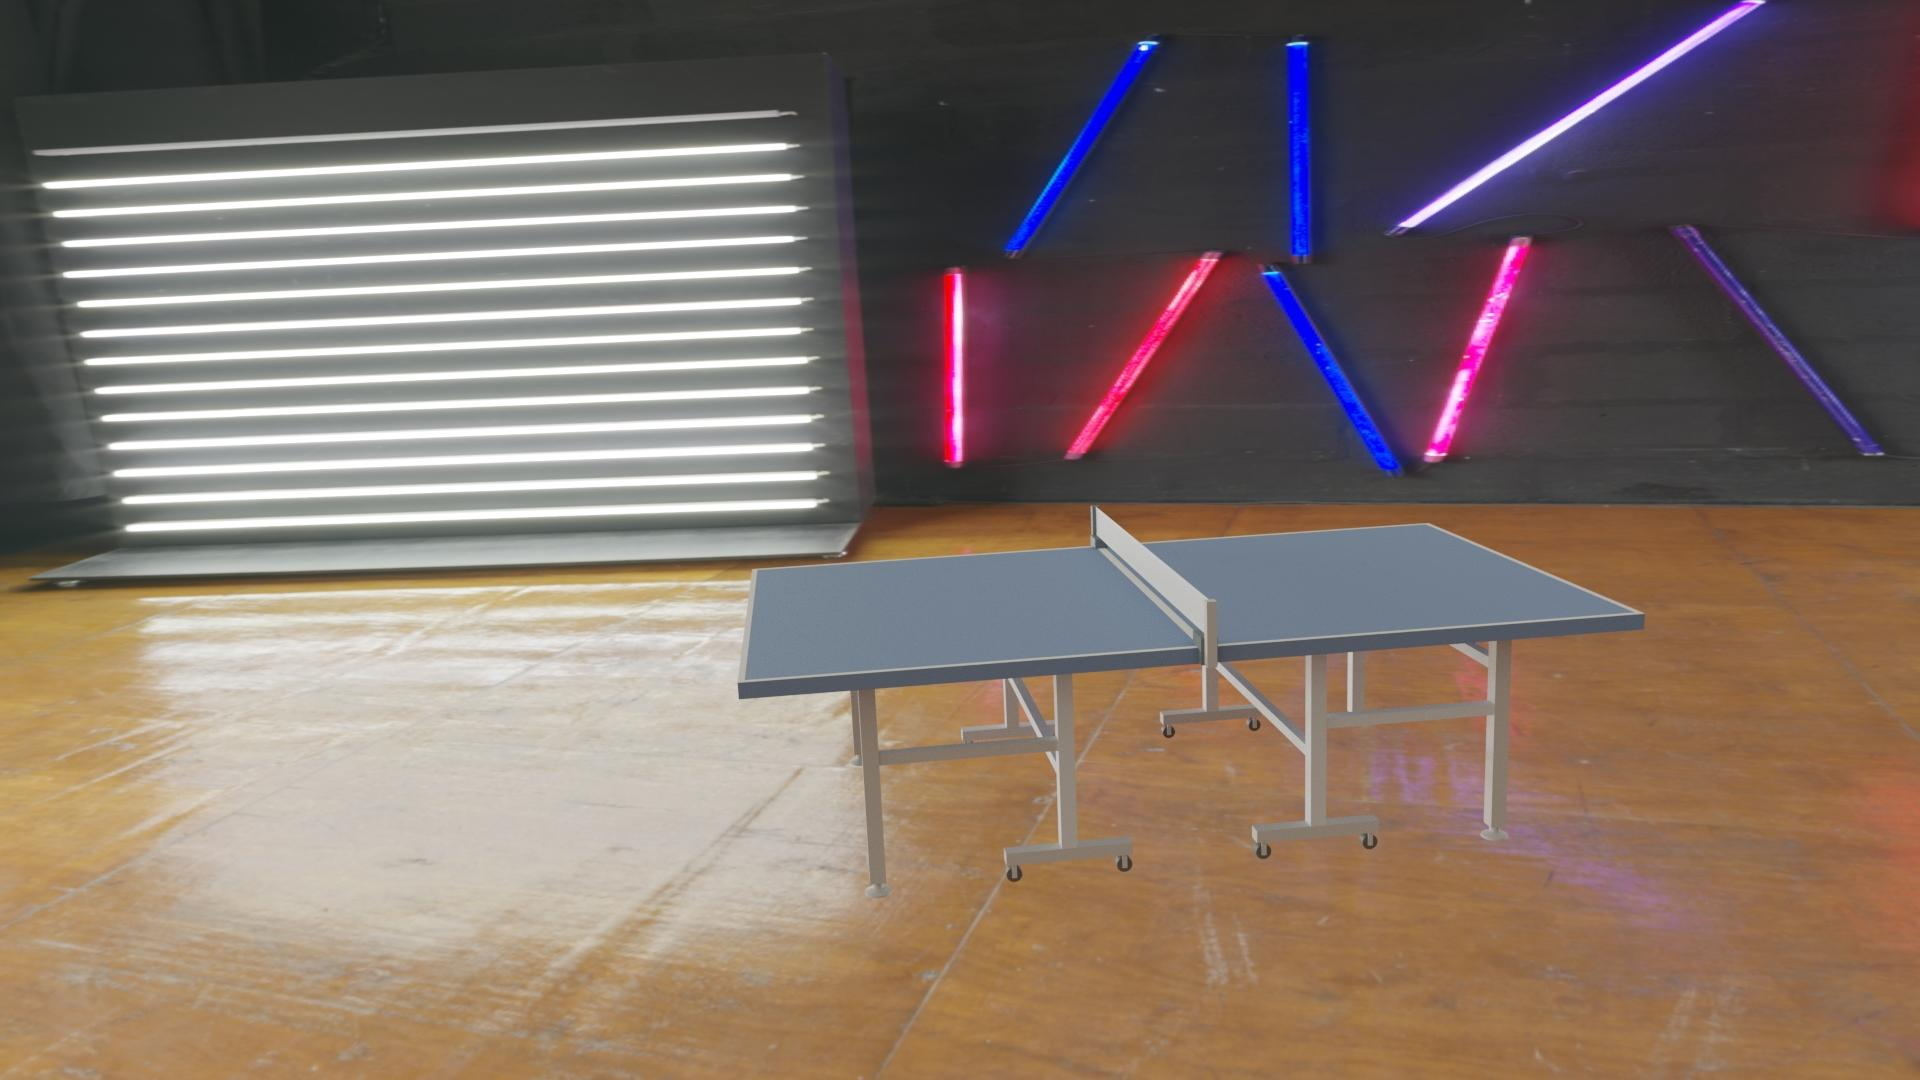table: (745, 525, 1635, 680)
